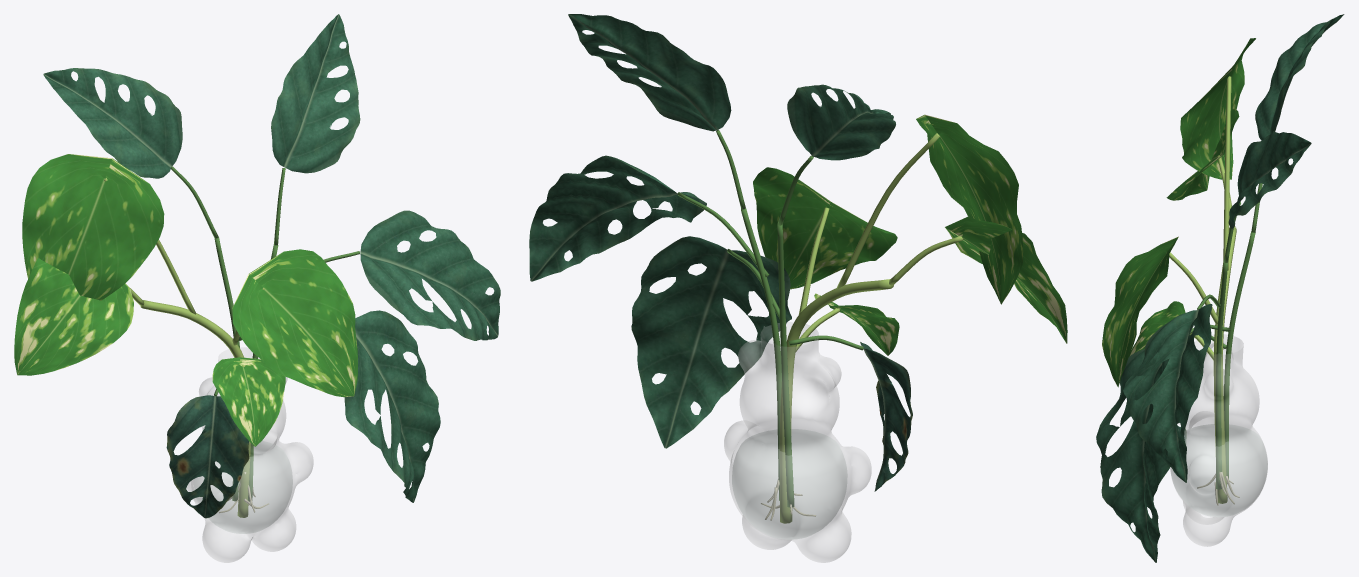
Rendered from cuttings-gI6EaTa9.glb.
3 views of the same model, side by side, from view 1: azimuth 30°, elevation 25°; view 2: azimuth 150°, elevation 25°; view 3: azimuth 270°, elevation 25° (orthographic). The views are drawn at different scales.
Visible parts, largest first — view 1: leaf_pothos_0, leaf_pothos_2, leaf_monstera_5, leaf_monstera_7, vase, leaf_monstera_4, leaf_pothos_1, leaf_monstera_6, leaf_monstera_8, water, leaf_pothos_3, stems; view 2: vase, leaf_monstera_7, stems, leaf_monstera_5, water, leaf_monstera_4, leaf_pothos_2, leaf_pothos_0, leaf_monstera_6, leaf_pothos_1, leaf_monstera_8, leaf_pothos_3; view 3: vase, leaf_monstera_5, leaf_monstera_7, water, stems, leaf_pothos_2, leaf_pothos_0, leaf_monstera_4, leaf_monstera_6, leaf_pothos_1, leaf_pothos_3.
Boxes of the visible parts, x1,y1,x2,y2 form: leaf_pothos_0: [22, 154, 164, 300]; leaf_pothos_2: [232, 249, 357, 397]; leaf_monstera_5: [360, 210, 500, 340]; leaf_monstera_7: [344, 310, 440, 502]; vase: [187, 347, 313, 562]; leaf_monstera_4: [271, 14, 360, 173]; leaf_pothos_1: [14, 258, 133, 375]; leaf_monstera_6: [43, 68, 182, 178]; leaf_monstera_8: [166, 395, 249, 518]; water: [194, 441, 292, 533]; leaf_pothos_3: [212, 357, 285, 446]; stems: [104, 166, 359, 517]; vase: [724, 322, 871, 562]; leaf_monstera_7: [631, 236, 791, 448]; stems: [677, 130, 963, 523]; leaf_monstera_5: [529, 155, 706, 281]; water: [732, 429, 847, 539]; leaf_monstera_4: [568, 14, 731, 131]; leaf_pothos_2: [753, 167, 897, 289]; leaf_pothos_0: [916, 114, 1023, 304]; leaf_monstera_6: [787, 84, 895, 160]; leaf_pothos_1: [945, 216, 1067, 343]; leaf_monstera_8: [860, 342, 912, 491]; leaf_pothos_3: [814, 293, 899, 355]; vase: [1170, 334, 1267, 546]; leaf_monstera_5: [1123, 304, 1212, 482]; leaf_monstera_7: [1096, 349, 1169, 562]; water: [1170, 424, 1267, 516]; stems: [1166, 76, 1262, 505]; leaf_pothos_2: [1102, 236, 1178, 387]; leaf_pothos_0: [1180, 38, 1255, 179]; leaf_monstera_4: [1228, 131, 1311, 228]; leaf_monstera_6: [1255, 14, 1344, 140]; leaf_pothos_1: [1166, 108, 1239, 200]; leaf_pothos_3: [1129, 301, 1185, 356].
Bounding box in the file's own units: 0.3134 × 0.2959 × 0.1451.
Materials: 8 (5 with a texture image).
